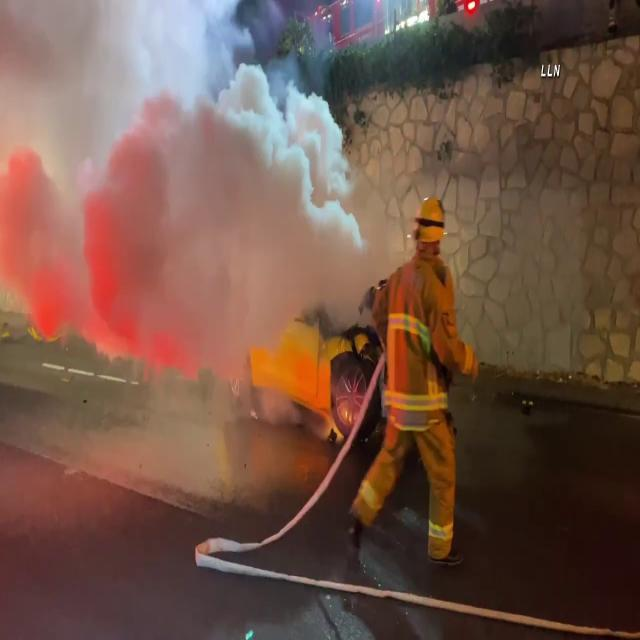Smoke: (0, 0, 343, 358)
